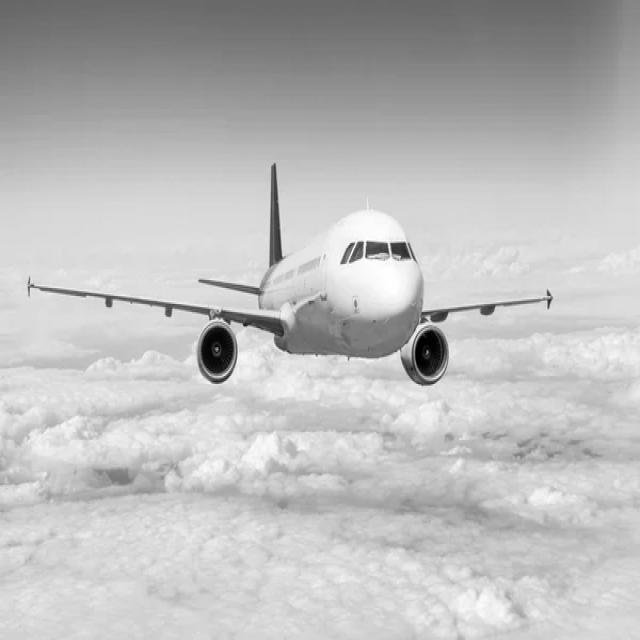Aircraft: (26, 151, 574, 414)
